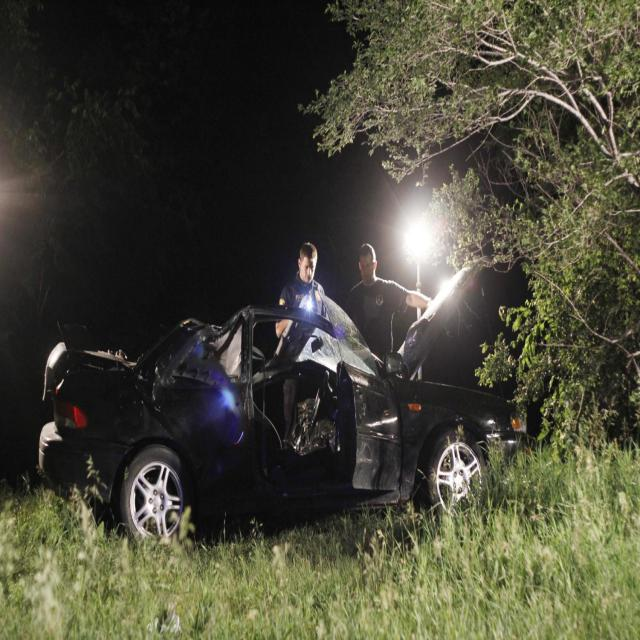Accident: (27, 260, 542, 543)
